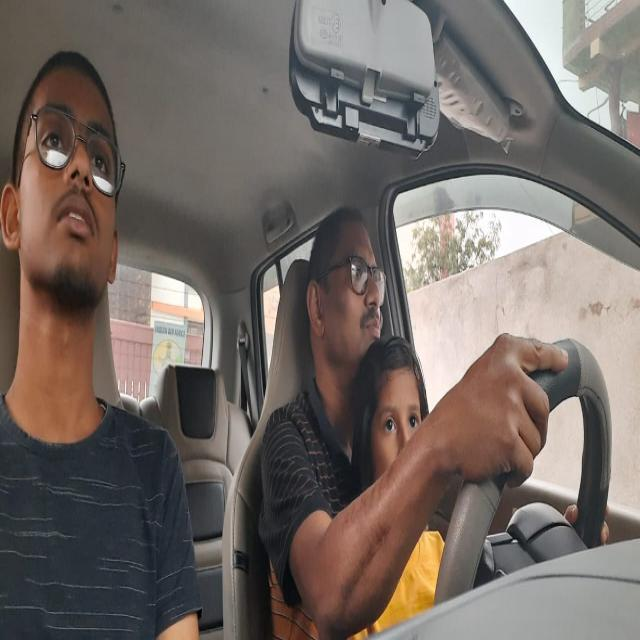child: (364, 338, 429, 476)
person: (1, 24, 131, 376), (305, 197, 399, 376)
